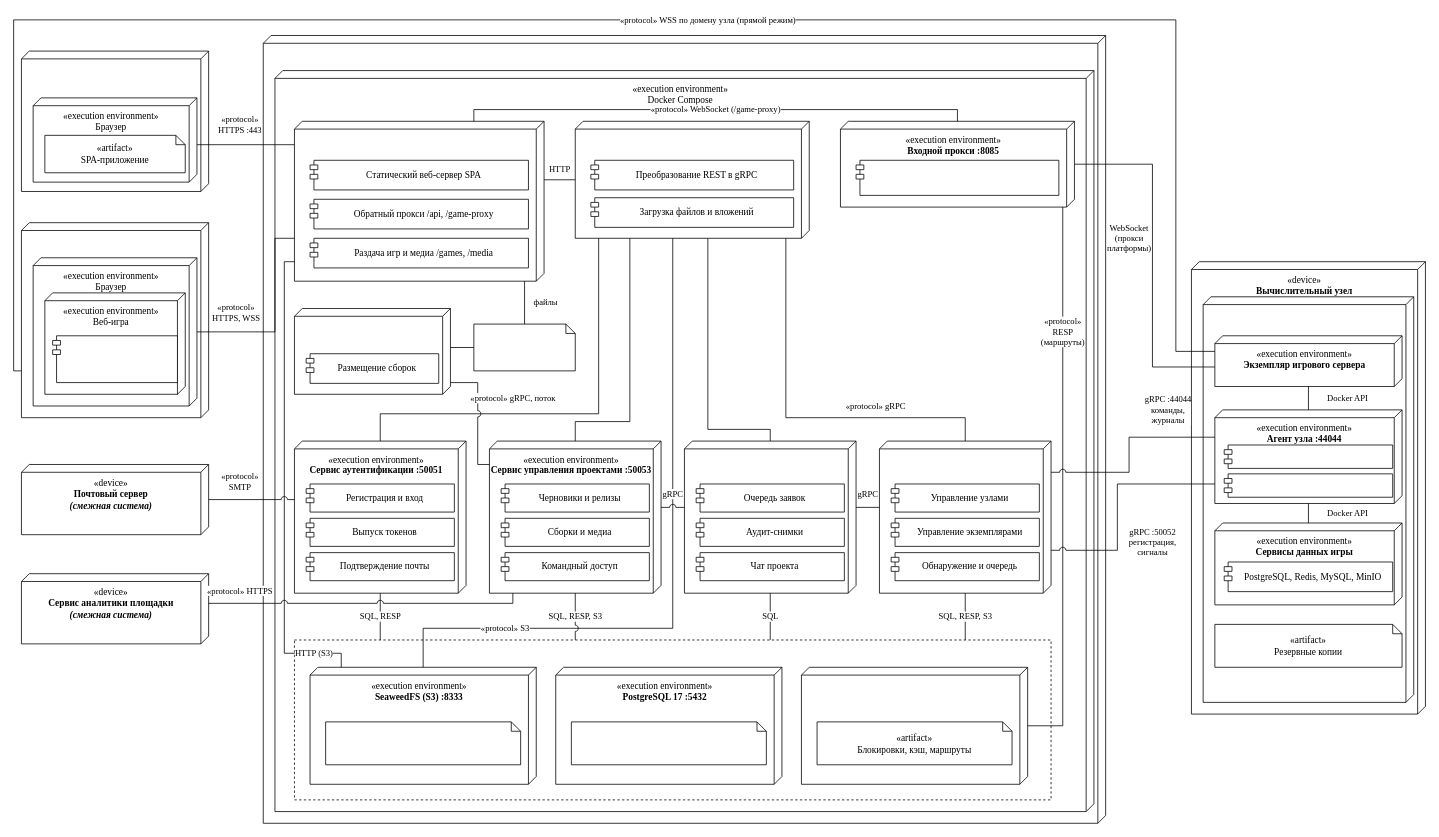
The diagram is 1439 pixels wide and 837 high, and some of its shapes have lost their labels. The box of each missing label's shape, as (x1, y1, x2, y2) in pixels:
«artifact» Базы данных сервисов: (571, 721, 766, 765)
«artifact» Каталог веб-игр: (473, 323, 575, 371)
«artifact» Сборки, медиа, вложения: (325, 721, 521, 765)
«device» Сервер платформы Welwise: (262, 35, 1106, 823)
«device» Устройство игрока: (21, 222, 209, 418)
«device» Устройство разработчика или сотрудника: (21, 50, 209, 191)
«execution environment» API-шлюз :8080: (574, 121, 809, 238)
«execution environment» Docker: (1202, 296, 1414, 702)
«execution environment» Nginx :80, :443: (294, 121, 544, 281)
«execution environment» Valkey 8 :6379: (801, 667, 1028, 784)
«execution environment» Агент развёртывания веб-игр :50055: (294, 308, 450, 394)
«execution environment» Сервис модерации :50054: (684, 440, 856, 593)
«execution environment» Сервис оркестрации :50052: (879, 440, 1051, 593)
Маршрутизация игрового трафика: (855, 160, 1059, 195)
Модуль обнаружения сервера (SDK): (52, 335, 177, 383)
Регистрация и сигналы присутствия: (1223, 444, 1393, 468)
Управление контейнерами и журналы: (1223, 473, 1393, 497)
Хранилища данных: (294, 639, 1051, 800)
